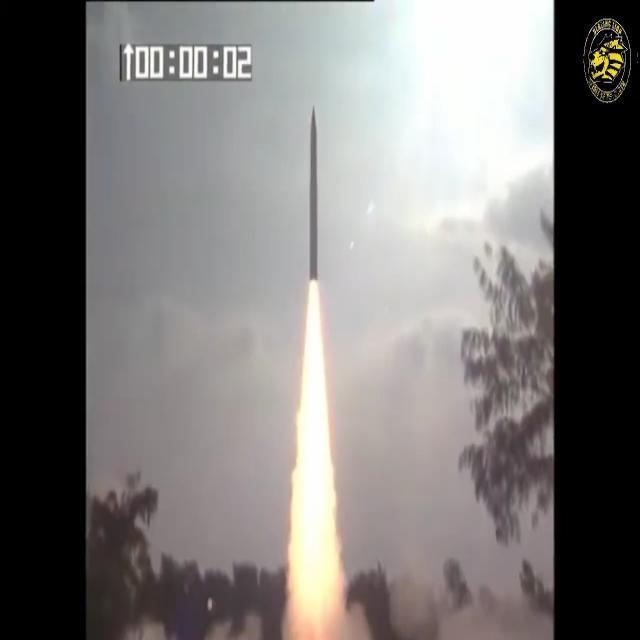missile: (299, 103, 326, 280)
